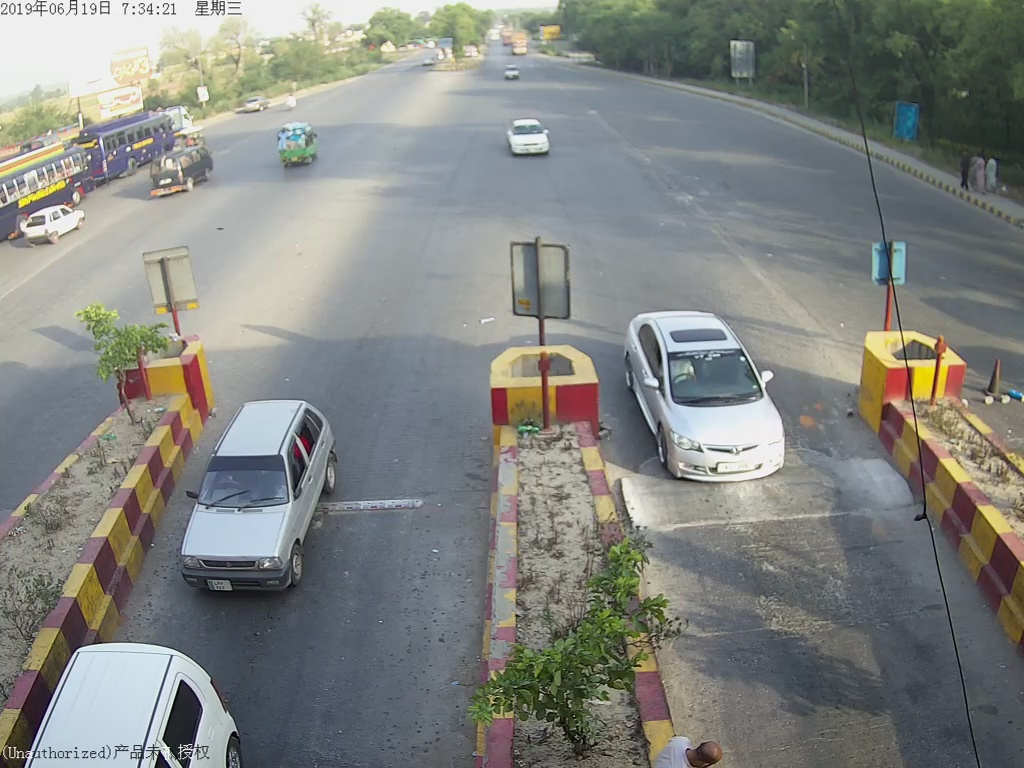Cat-1: (619, 300, 797, 486), (190, 396, 332, 595)
